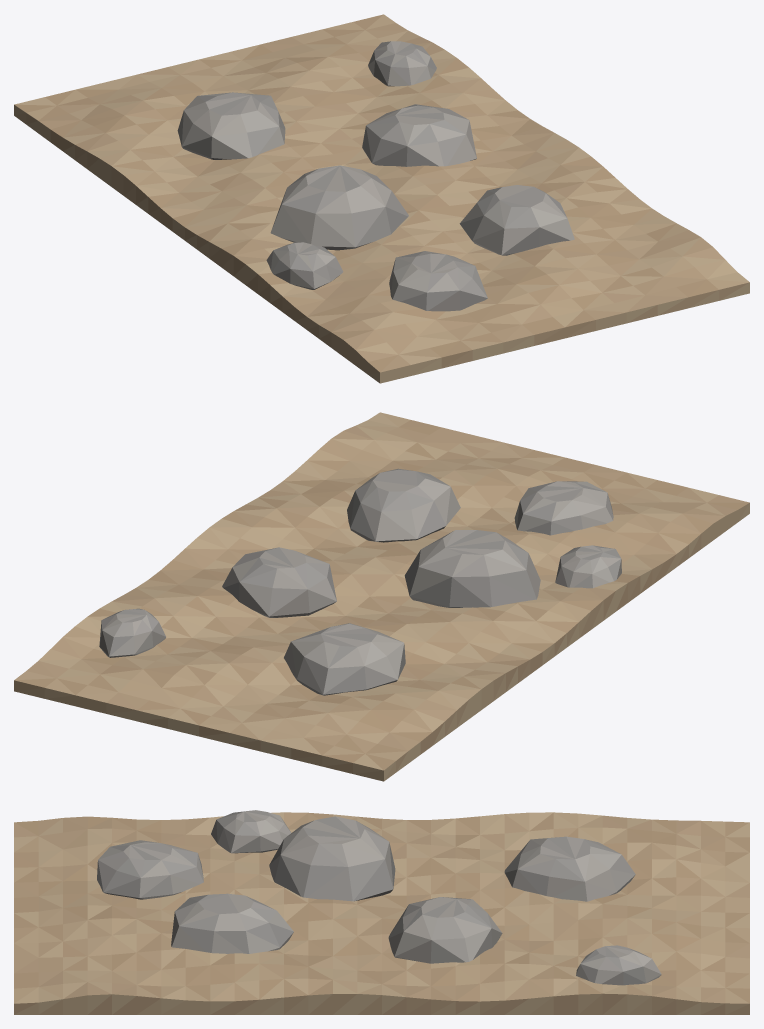
The model's file is 08_boulder_garden.glb.
The picture shows the model from 3 angles, top to bottom: view 1: azimuth 30°, elevation 25°; view 2: azimuth 150°, elevation 25°; view 3: azimuth 270°, elevation 25°; orthographic projection.
Visible parts, largest first — view 1: ObstacleMesh; view 2: ObstacleMesh; view 3: ObstacleMesh.
Part boxes in pixels (x1=…): ObstacleMesh: x1=14, y1=14, x2=749, y2=383; ObstacleMesh: x1=14, y1=412, x2=749, y2=781; ObstacleMesh: x1=14, y1=810, x2=749, y2=1014.
Size of the model in its own units: 7 by 1.08 by 12.
